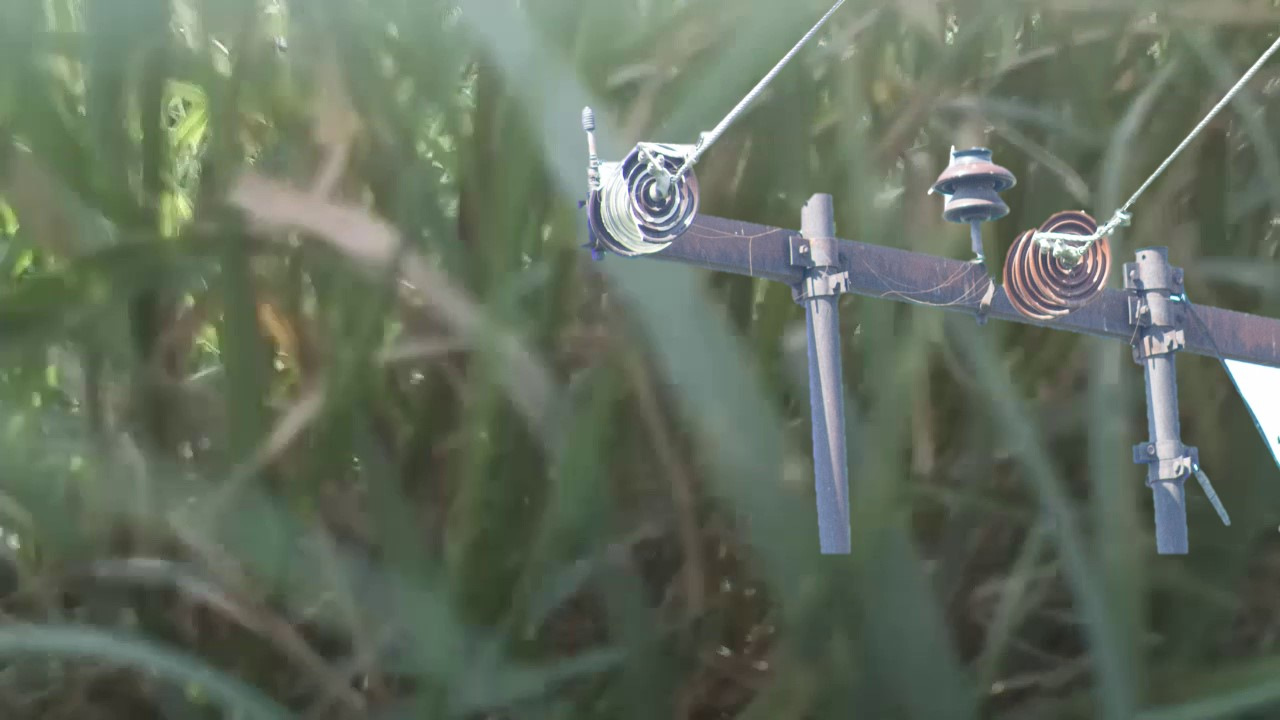defect_disc: (622, 140, 705, 247)
insulator_disc: (1023, 201, 1113, 305)
